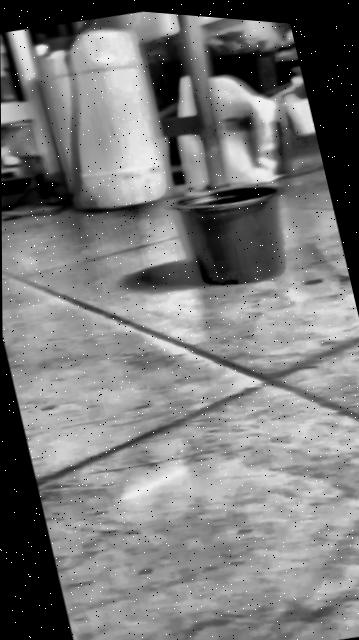pot: (169, 171, 301, 299)
